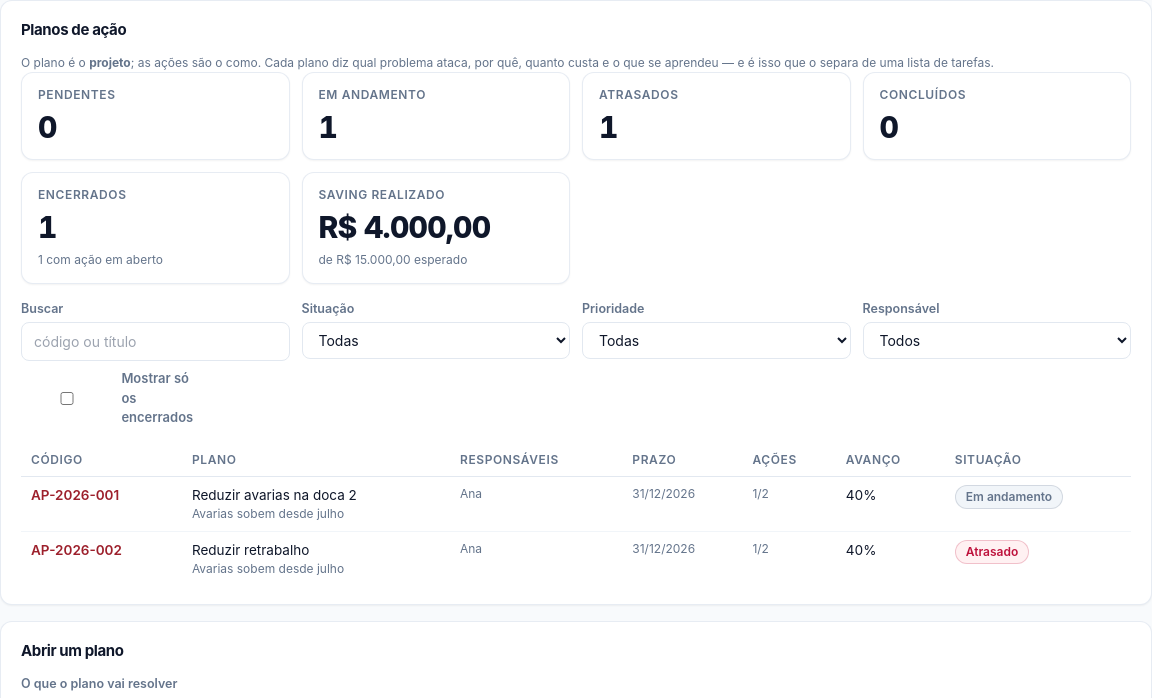
<PlanoDeAcaoTela /> › filtra por situação e o limpar só aparece quando há filtro
expect the table with test id "tabela-planos" is shown: met, box [21,444,1131,586]
expect the button "Limpar" is not shown: met
Select "Atrasado" in the dropdown labelled "Situação" at (436, 341), box [302,322,570,359]
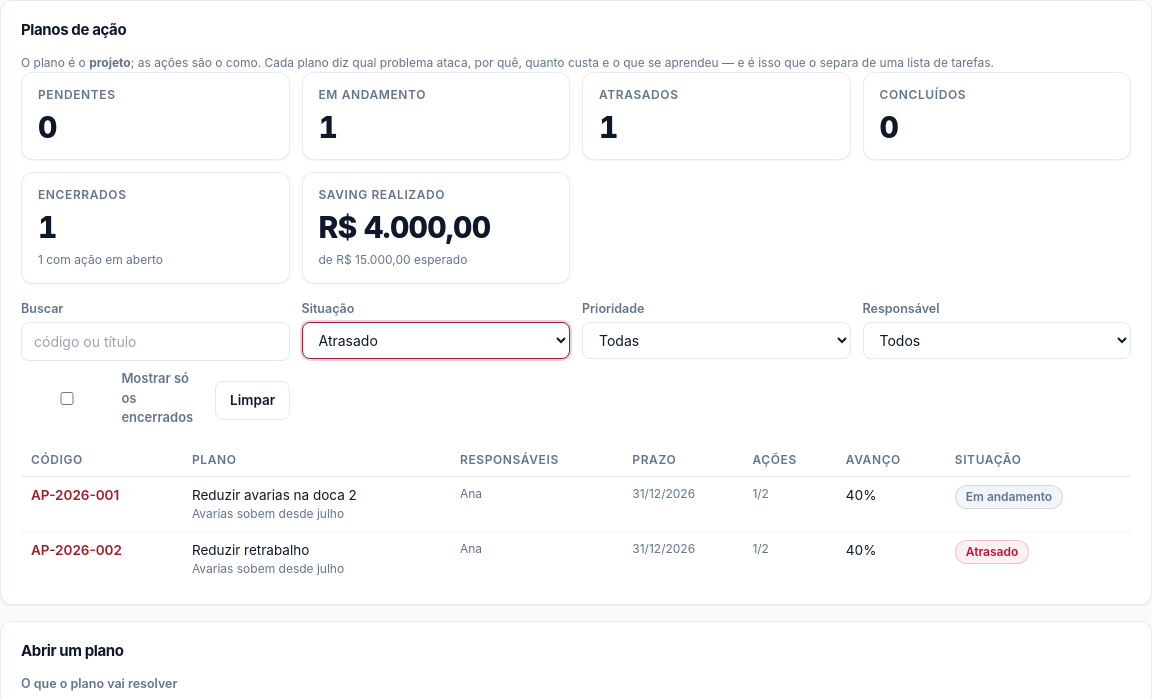
expect the button "Limpar" is shown: met, box [215,381,290,420]
